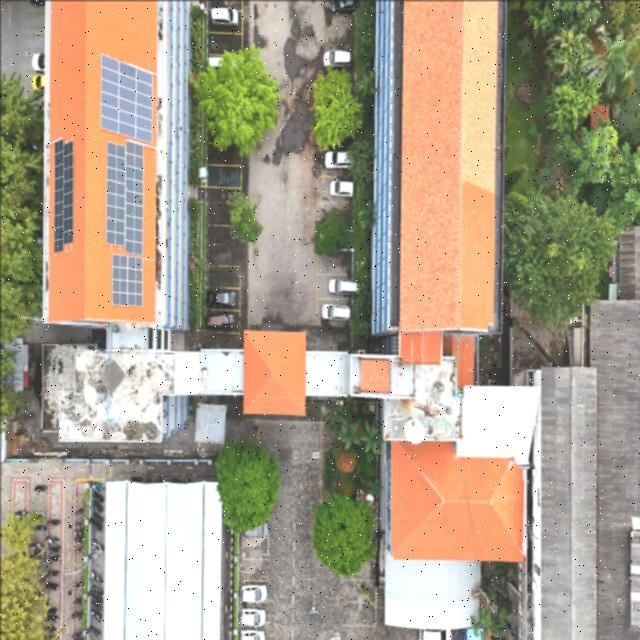Tree: (192, 45, 282, 158), (308, 486, 382, 576), (210, 444, 280, 532), (306, 68, 366, 150), (568, 119, 620, 187), (216, 188, 266, 245)
